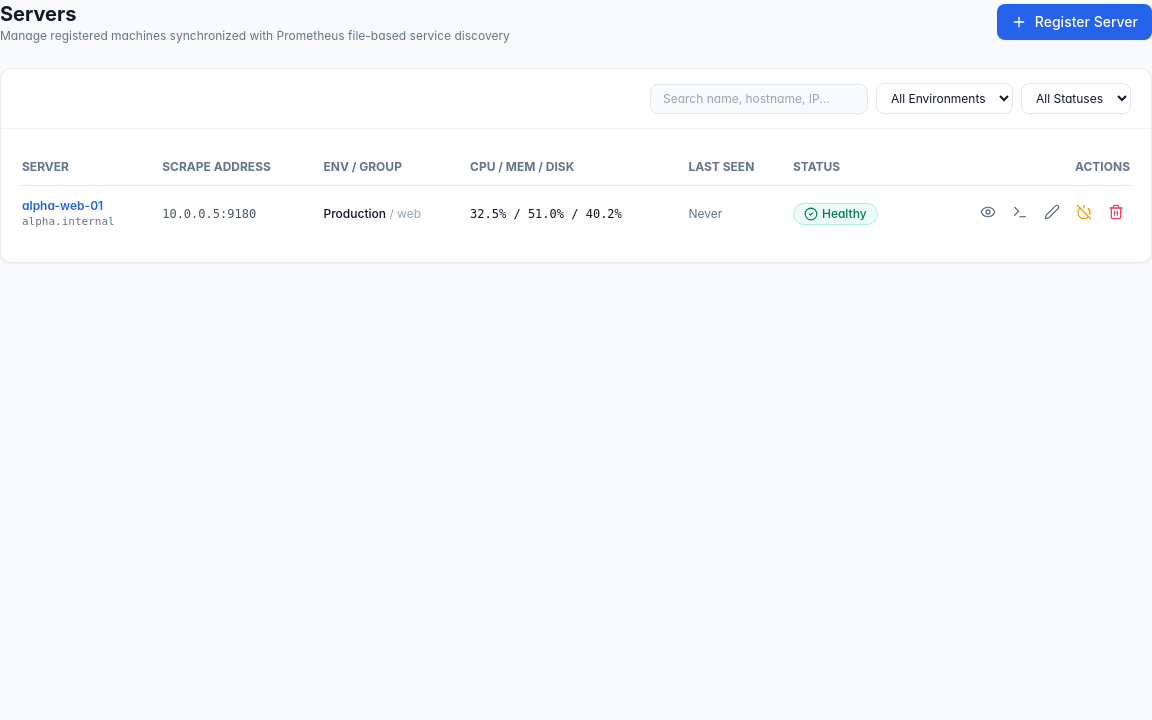
it: CloudPulse Frontend Suite (PRD Section 32.3) › filters servers and supports server creation modal for Admins
Expected: the link "alpha-web-01" is shown, 22,198 -> 103,213
Step 1. Type "alpha" into the search field named "Search servers" → (759, 98), box 650,84 -> 868,114
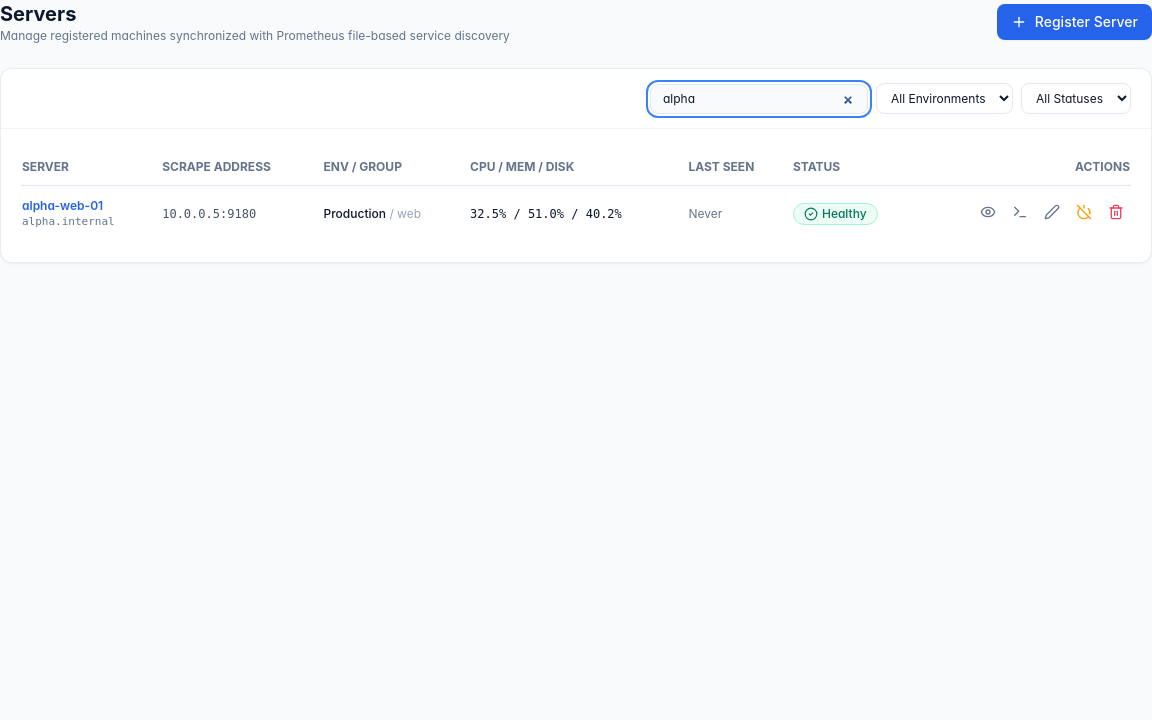
Step 2. Click the button "Register Server" → (1074, 22), box 997,4 -> 1151,40
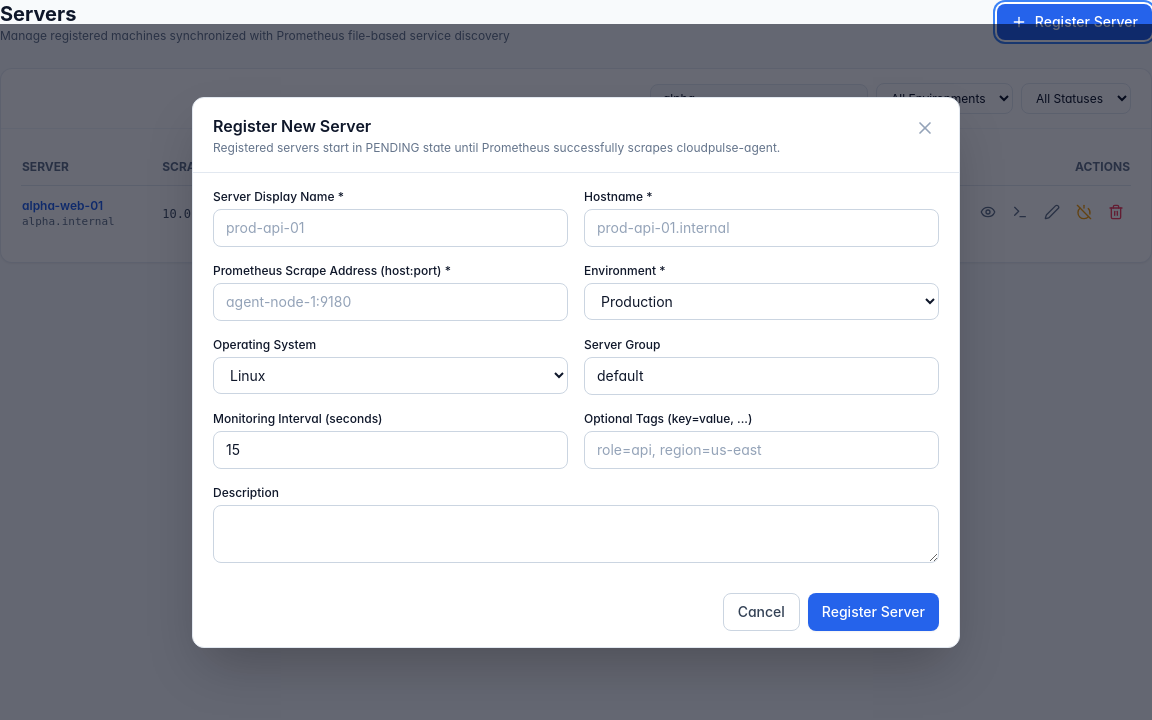
Now the heading "Register New Server" is shown, box 213,116 -> 371,136
